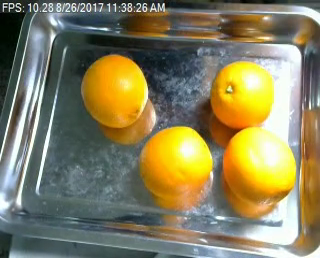Orange: (223, 126, 298, 205), (137, 124, 213, 198), (80, 53, 148, 126), (209, 61, 274, 126)
